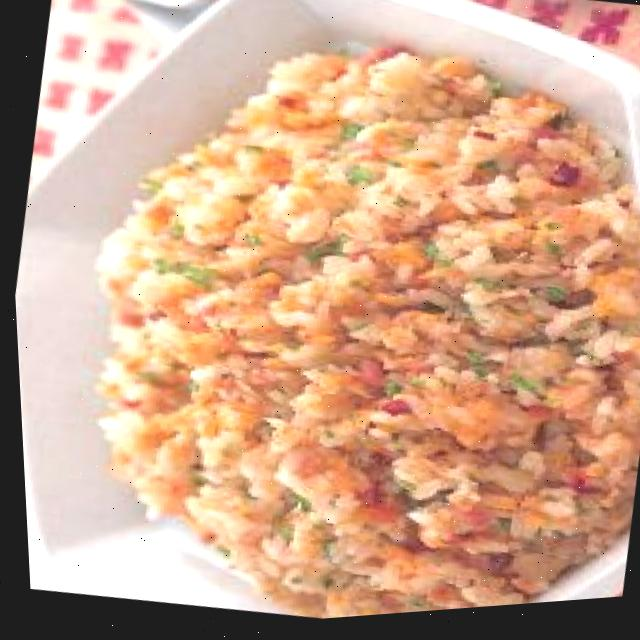米饭主食: (10, 0, 640, 639)
